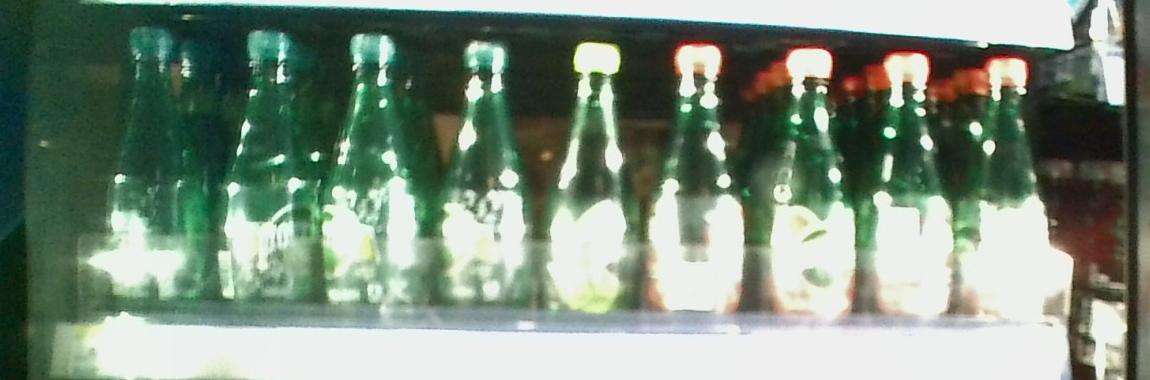bottle: (319, 28, 428, 324), (437, 34, 540, 324), (107, 27, 207, 314), (647, 42, 747, 322), (757, 45, 857, 325), (219, 26, 314, 313), (866, 42, 959, 326), (549, 40, 637, 317), (968, 56, 1054, 325)
